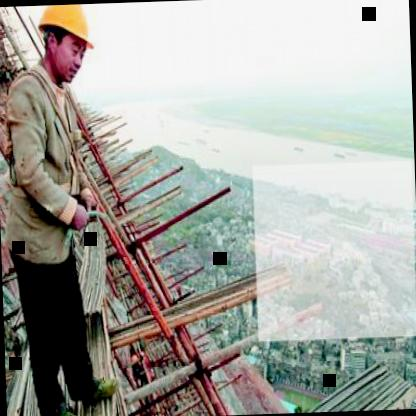helmet: (36, 4, 102, 80)
